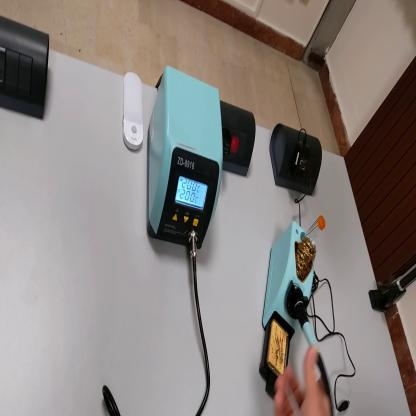hand: (275, 351, 331, 414)
socket: (269, 119, 324, 203), (221, 102, 259, 179)
welder base: (261, 212, 328, 399)
welder probe tip: (293, 297, 327, 401)
welder station: (145, 69, 222, 250)
